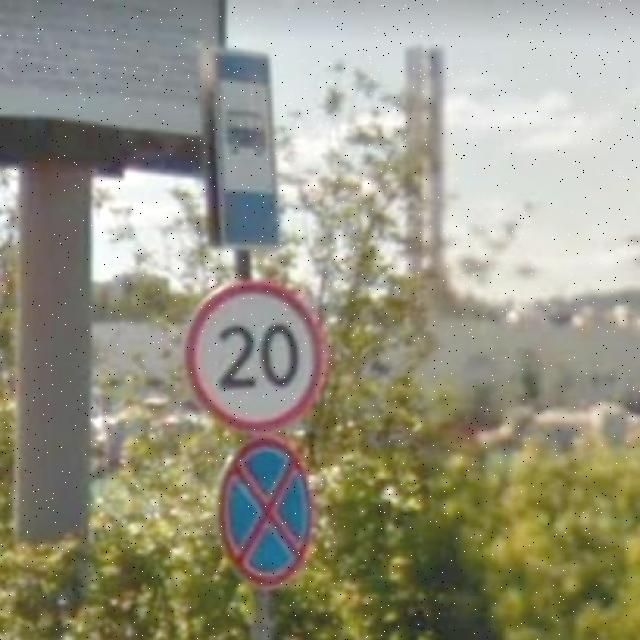Ograniczenie predkosci do 20: (185, 280, 326, 436)
Zakaz zatrzymywania sie: (216, 436, 314, 584)
